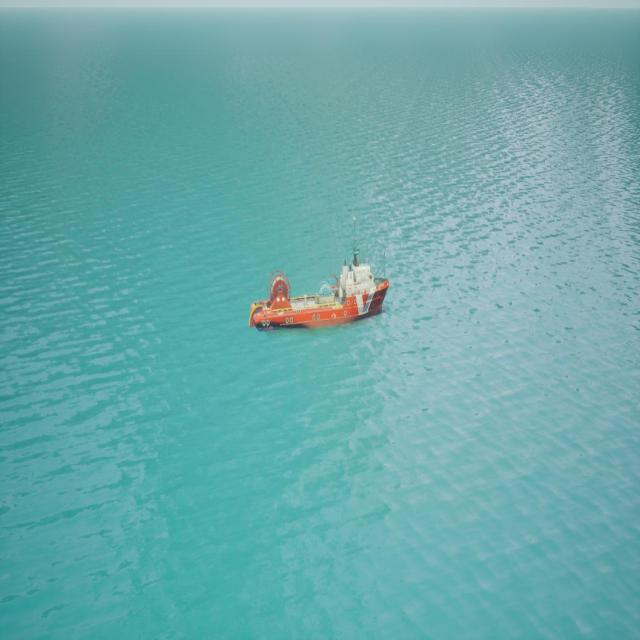tug boat: (250, 256, 392, 335)
